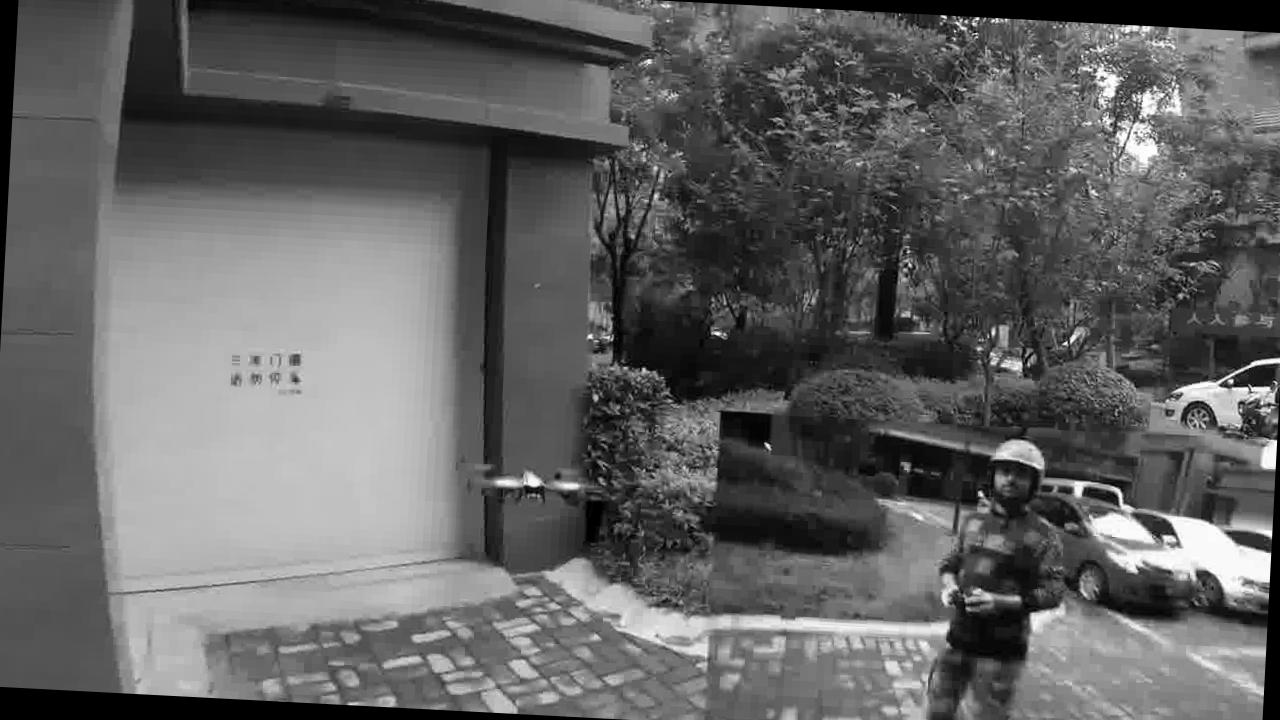drone: (444, 450, 622, 520)
